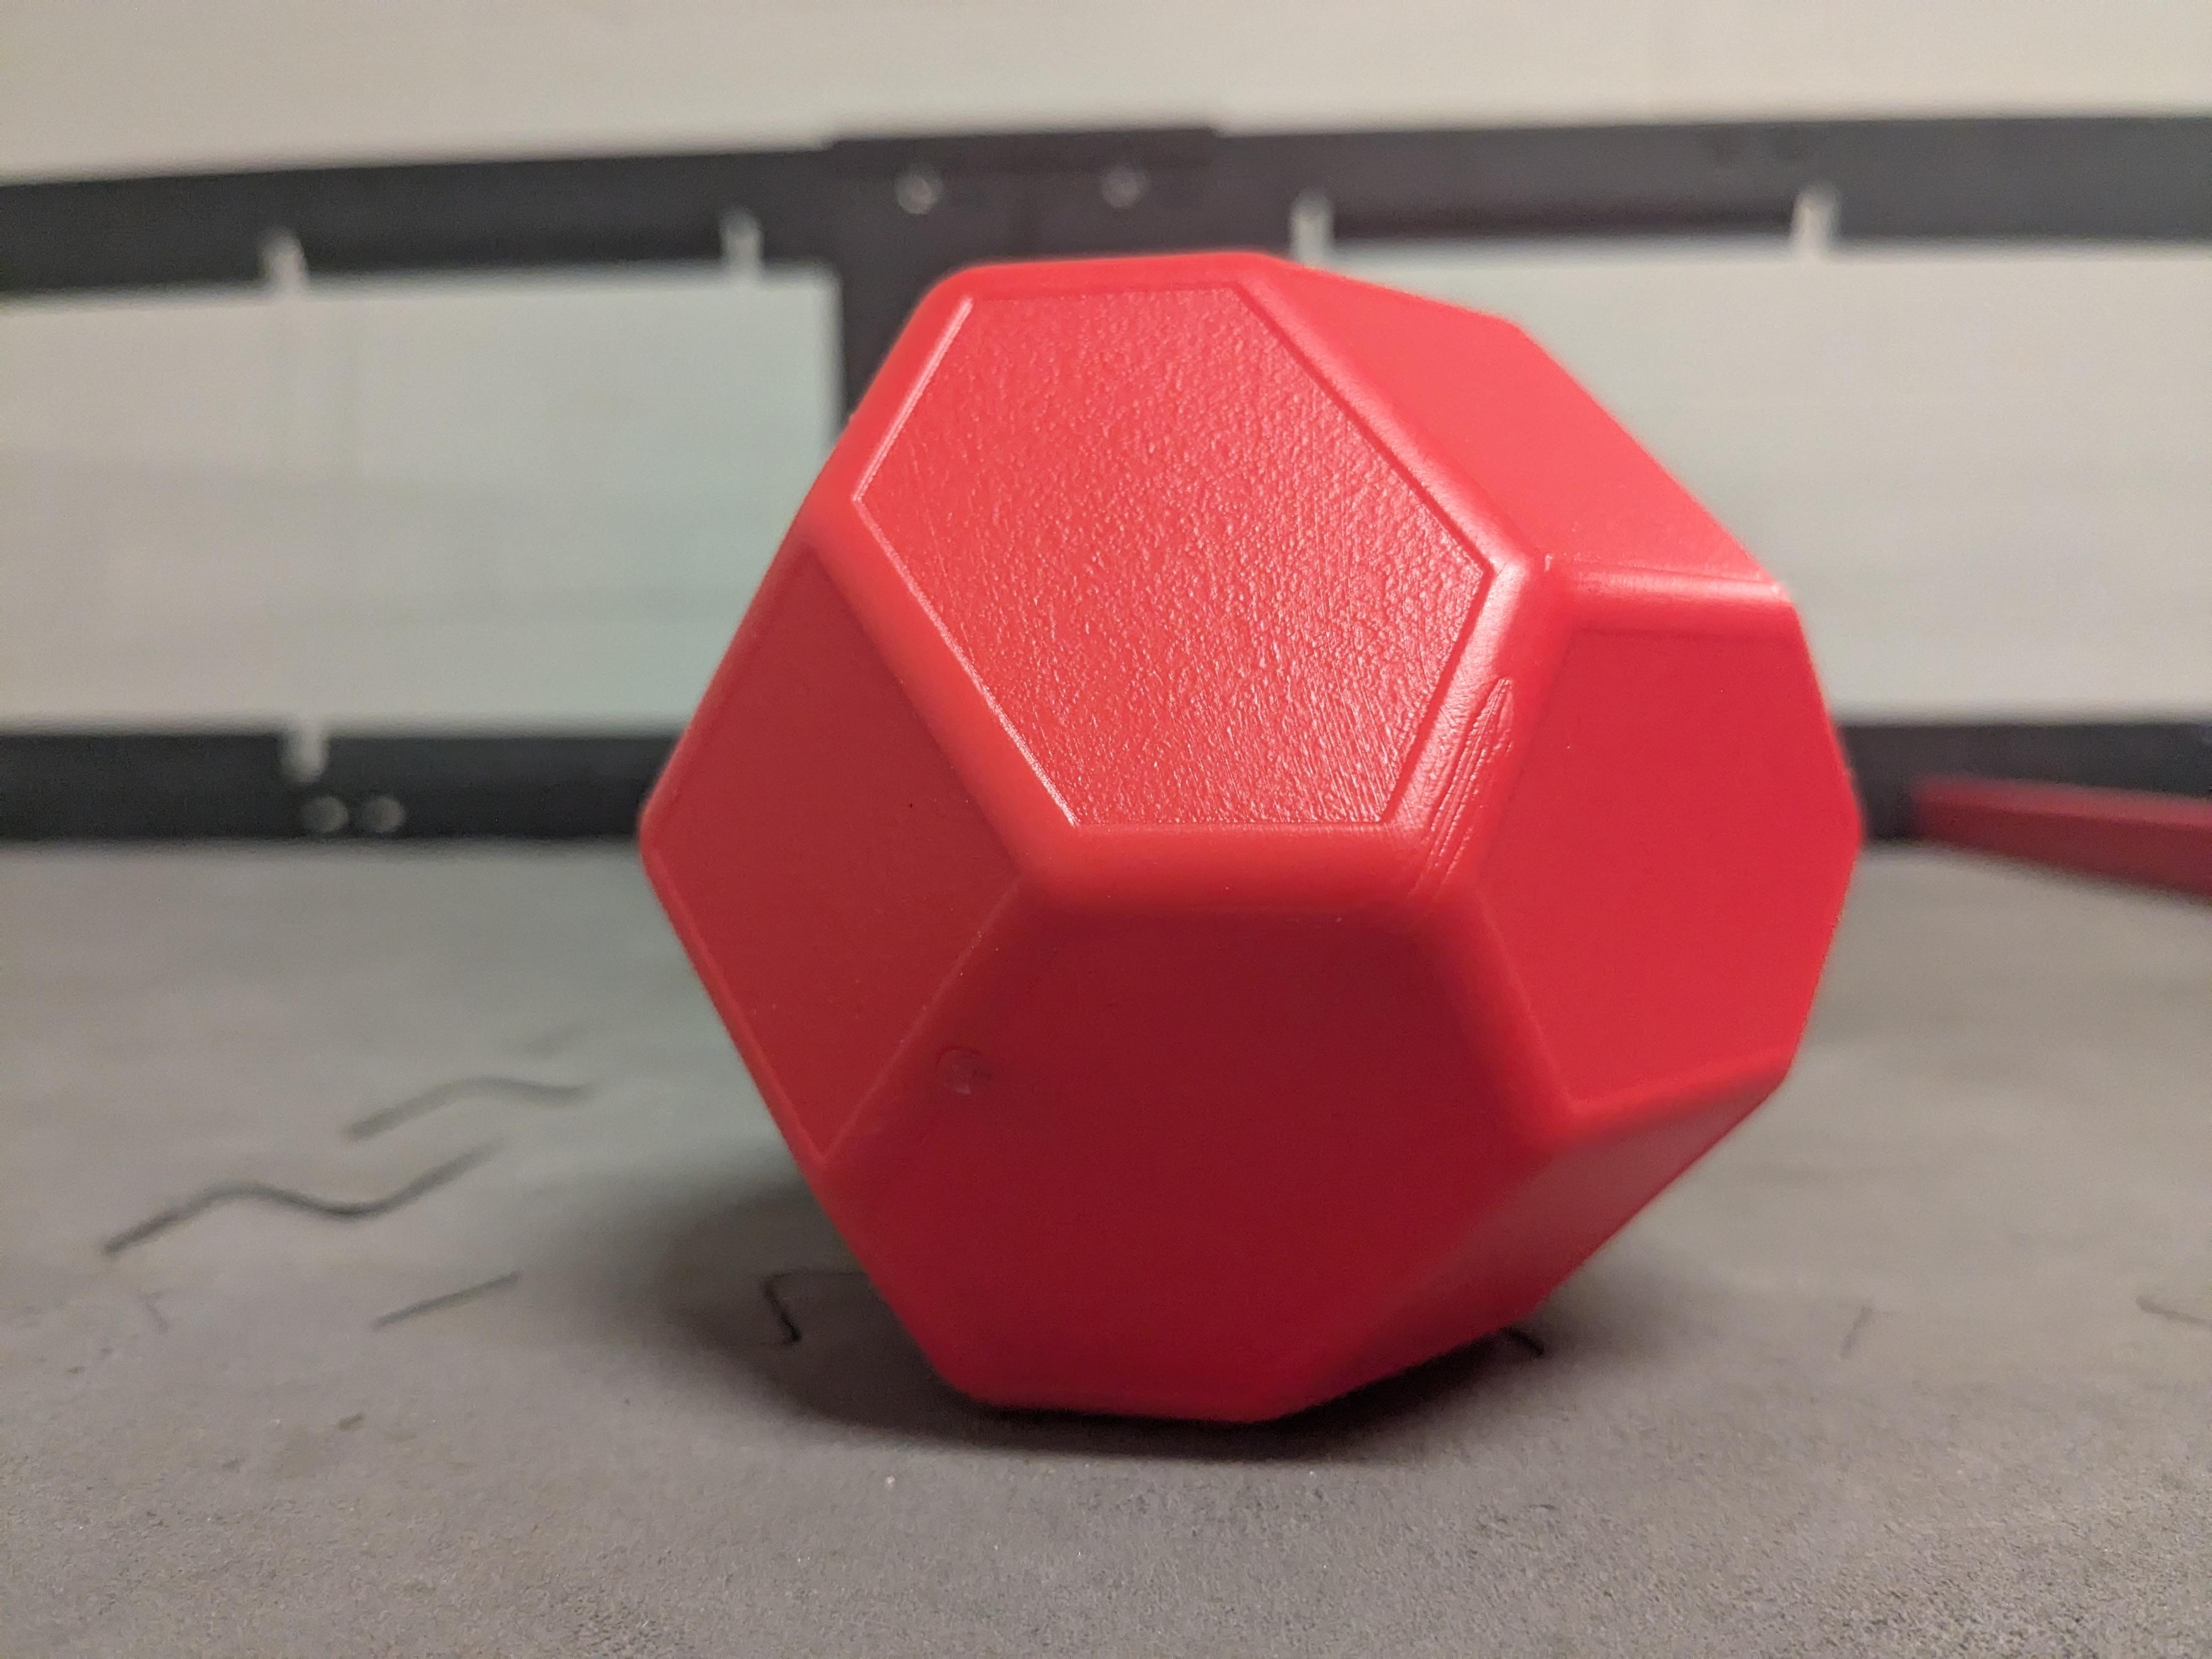Vex-Pieces-RED: (641, 251, 1857, 1419)
